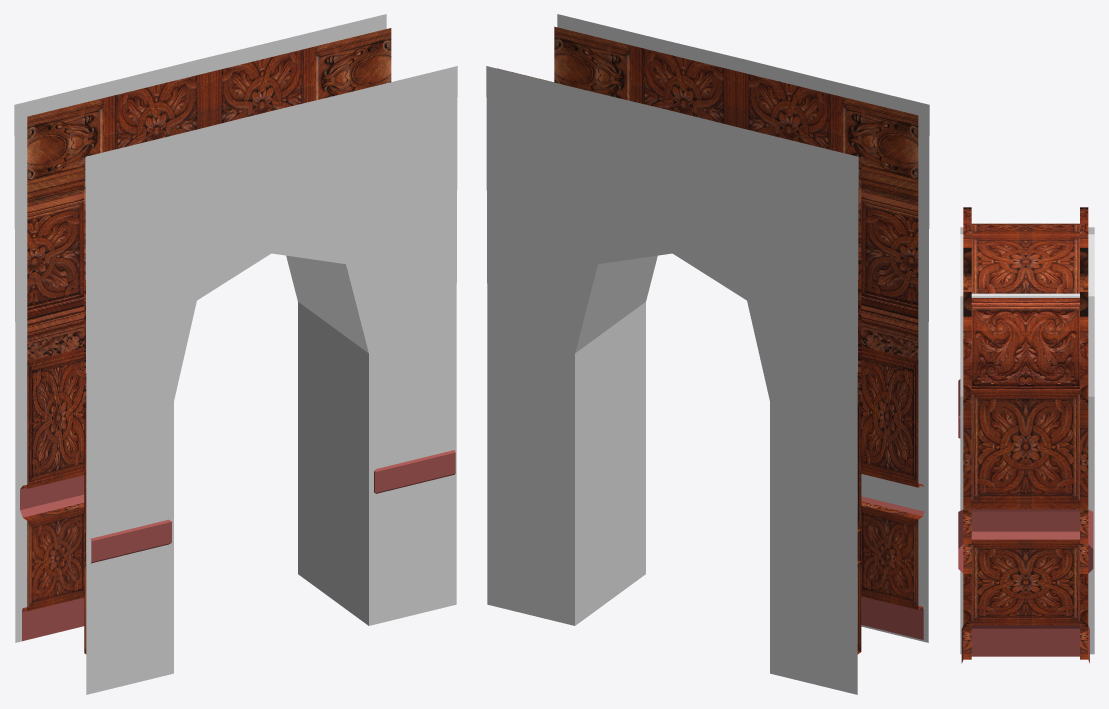
Rendered from Arch1.fbx.
The picture shows the model from 3 angles, left to right: view 1: azimuth 30°, elevation 25°; view 2: azimuth 150°, elevation 25°; view 3: azimuth 270°, elevation 25°; orthographic projection. The views are drawn at different scales.
Visible parts, largest first — view 1: ArchCollMesh.002, Arch.002; view 2: ArchCollMesh.002, Arch.002; view 3: Arch.002, ArchCollMesh.002.
Part boxes in pixels (box(x1,y1,x2,y2)): ArchCollMesh.002: box(14, 14, 457, 694); Arch.002: box(20, 28, 455, 654); ArchCollMesh.002: box(486, 14, 929, 694); Arch.002: box(497, 26, 924, 654); Arch.002: box(958, 207, 1093, 663); ArchCollMesh.002: box(960, 227, 1094, 654).
Bounding box in the file's own units: 329 × 455 × 110.
